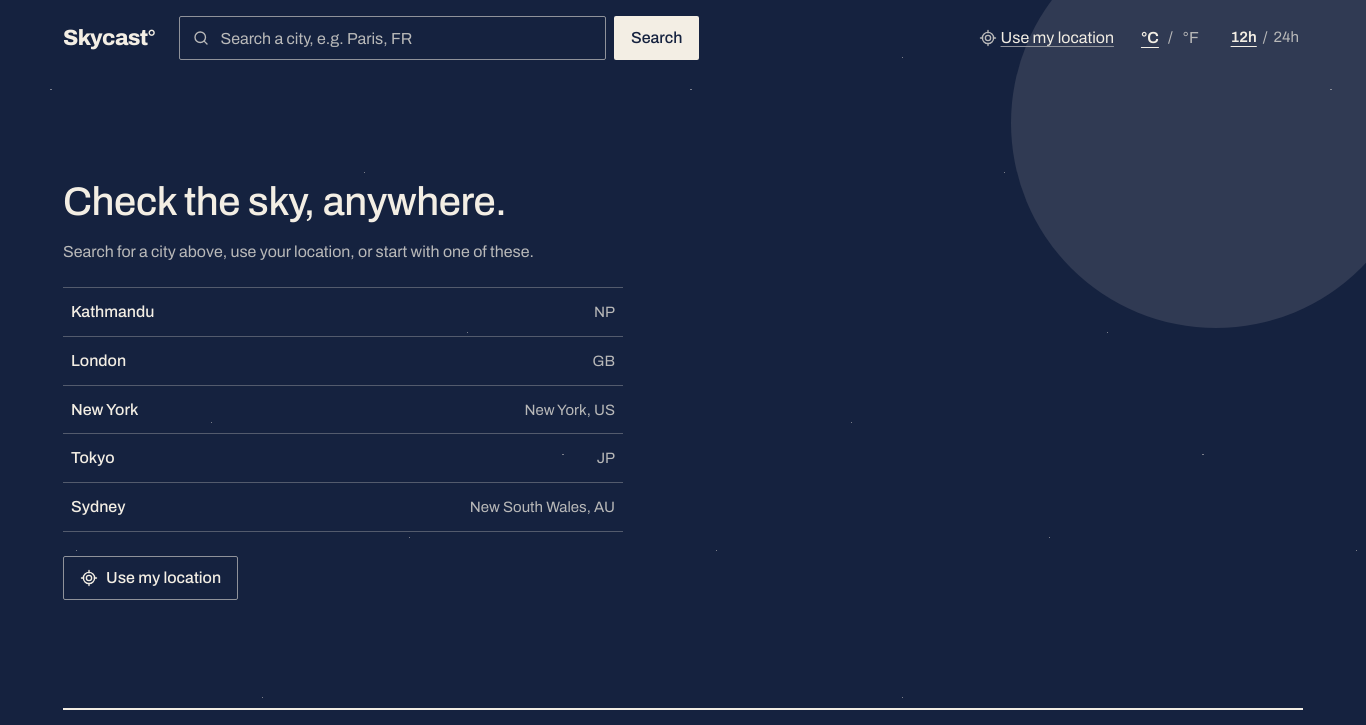
App › ignores a slow earlier response that arrives after a newer one
Type "London" into the dropdown named "search for a city". click: (406, 38)
box: x1=218 y1=17 x2=593 y2=59
Then press Enter
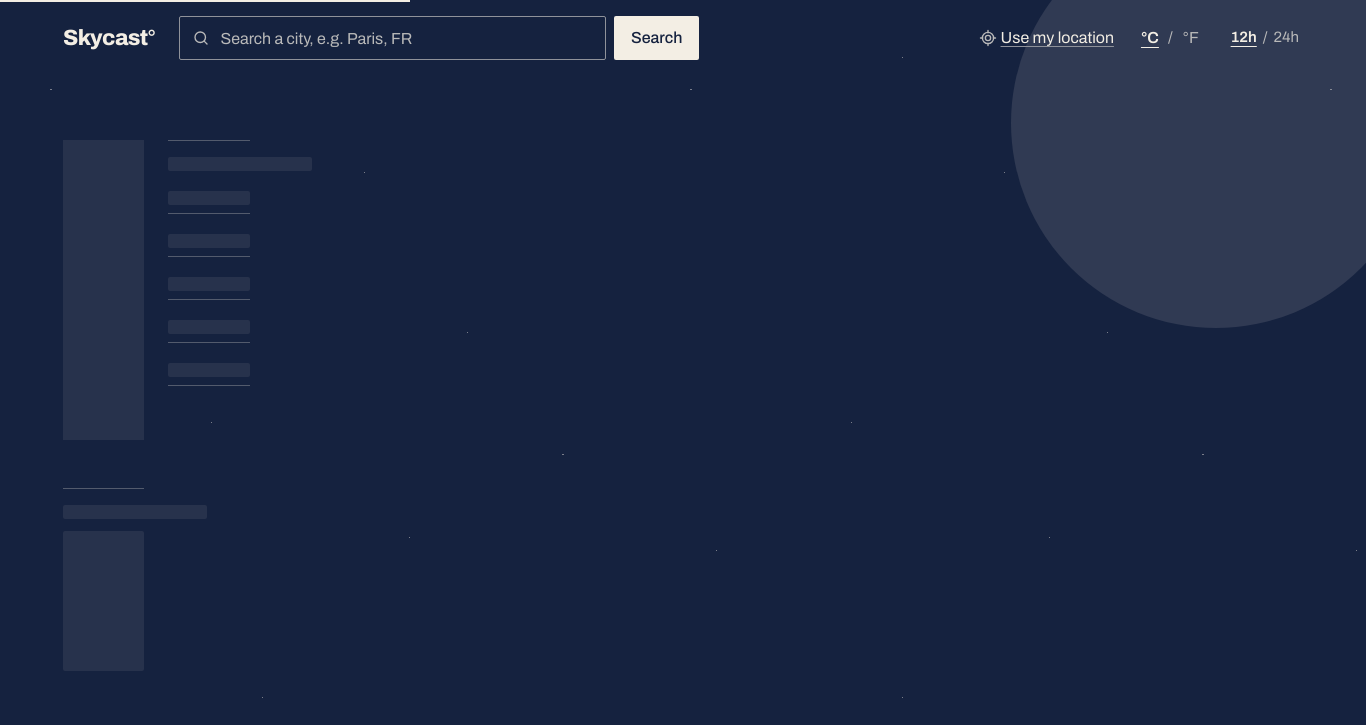
Type "Tokyo" into the dropdown named "search for a city". click: (406, 38)
box: x1=218 y1=17 x2=593 y2=59
Then press Enter
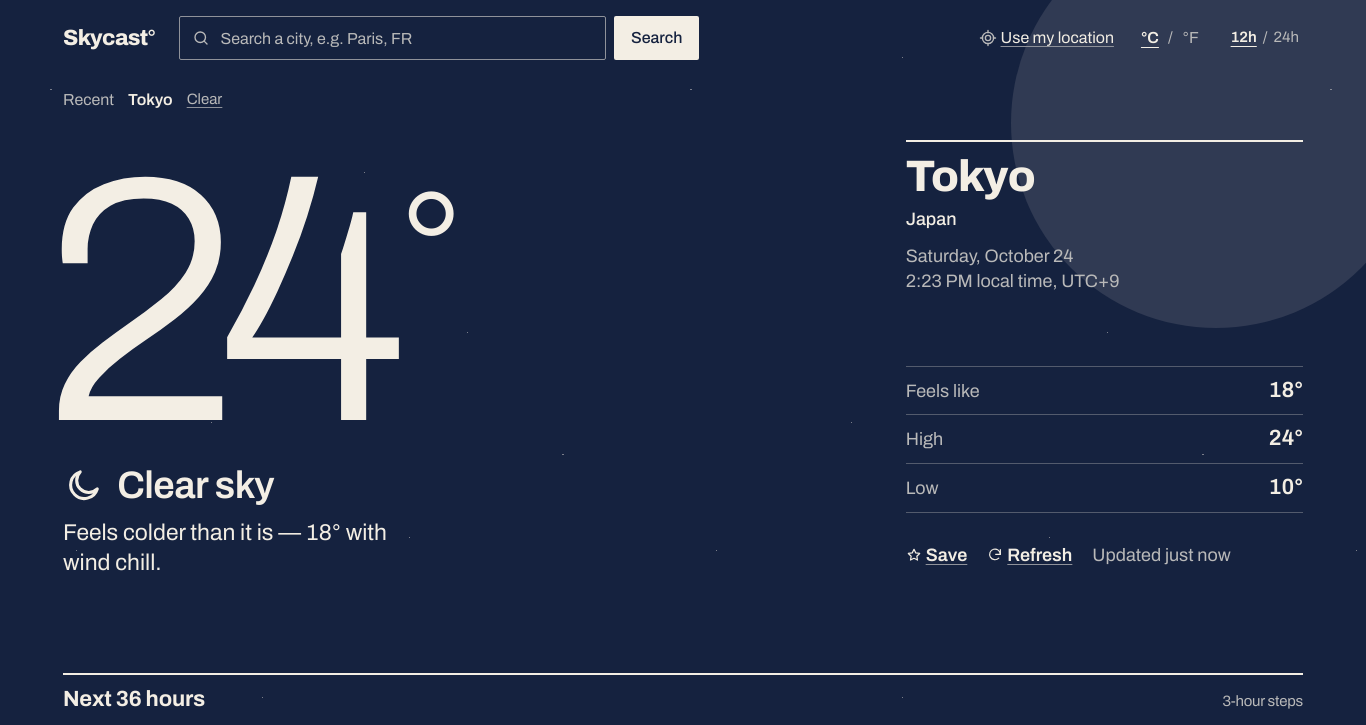
Expected: the button "London" is not shown
Expected: the heading "Tokyo" is shown, x1=906 y1=152 x2=1035 y2=200
